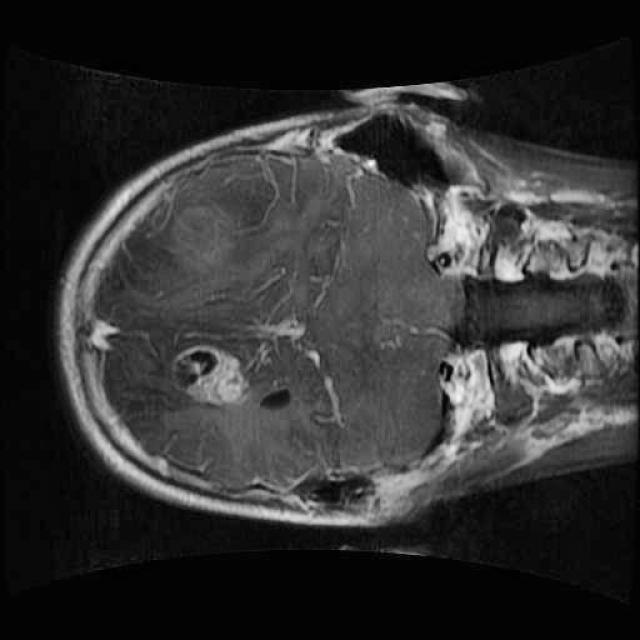Tumor: (158, 332, 268, 418)
